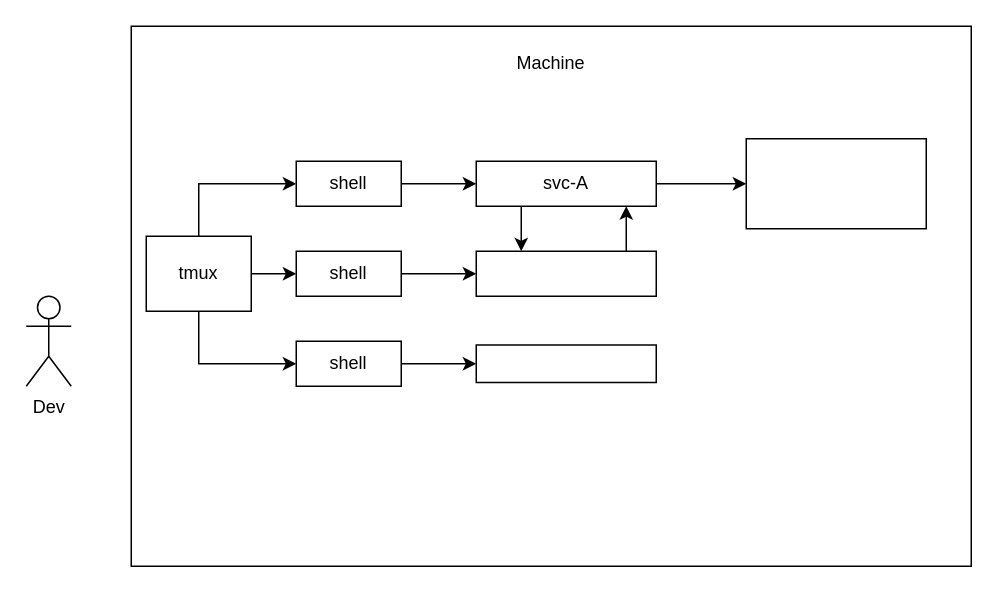
The diagram is 998 pixels wide and 593 high, and some of its shapes have lost their labels. The box of each missing label's shape, as (x1, y1, x2, y2) in pixels:
database: (745, 137, 926, 229)
svc-B: (475, 250, 656, 296)
vim: (475, 344, 656, 382)
